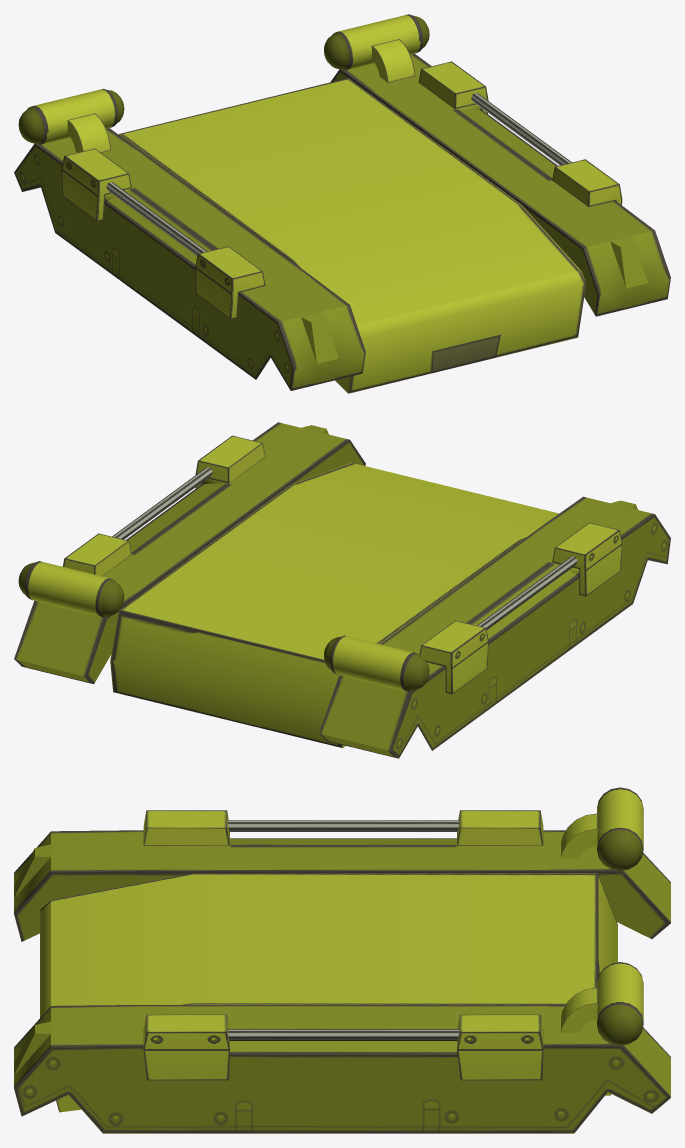
File: Tank1_Base.fbx
The picture shows the model from 3 angles, top to bottom: view 1: azimuth 30°, elevation 25°; view 2: azimuth 150°, elevation 25°; view 3: azimuth 270°, elevation 25°; orthographic projection. The views are drawn at different scales.
Visible parts, largest first — view 1: Base; view 2: Base; view 3: Base.
Boxes of the visible parts, x1,y1,x2,y2 form: Base: (14, 14, 670, 393); Base: (14, 422, 670, 758); Base: (14, 787, 670, 1133).
Size of the model in its own units: 4.12 by 1.25 by 4.93.
